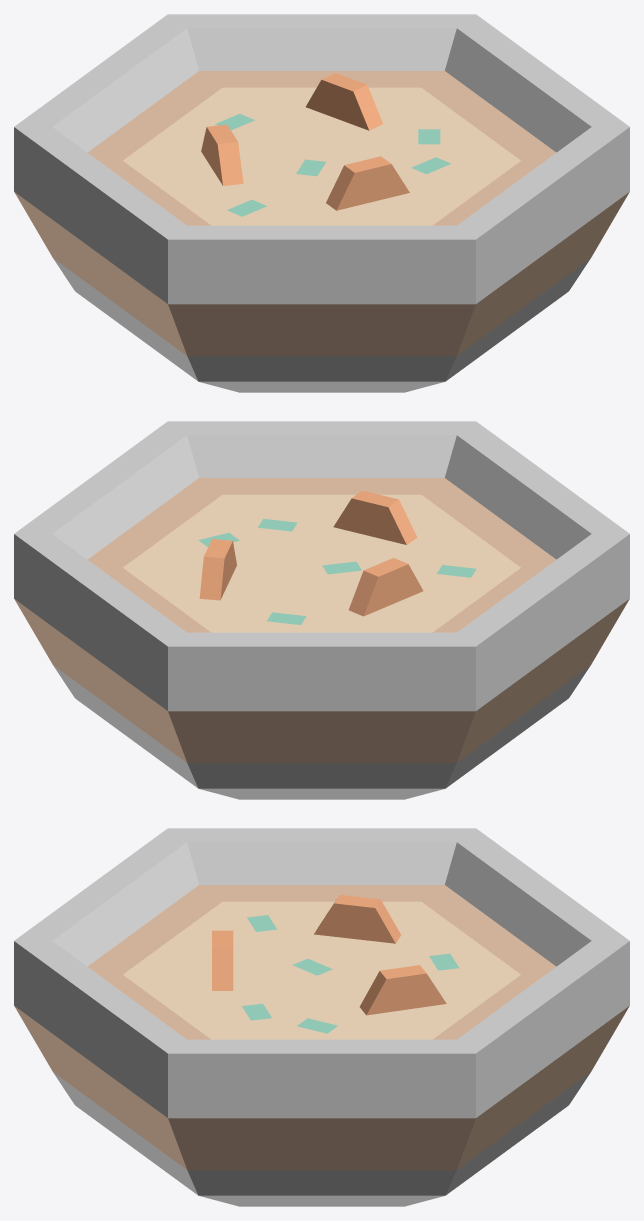
Rendered from asset.glb.
3 views of the same model, one above another, from view 1: azimuth 30°, elevation 25°; view 2: azimuth 150°, elevation 25°; view 3: azimuth 270°, elevation 25° (orthographic).
Parts seen in each view (by area): view 1: bowlSoup; view 2: bowlSoup; view 3: bowlSoup.
Boxes of the visible parts, x1,y1,x2,y2 form: bowlSoup: [14, 14, 629, 392]; bowlSoup: [14, 421, 629, 799]; bowlSoup: [14, 828, 629, 1206].
Bounding box in the file's own units: 0.5022 × 0.2138 × 0.5798.
